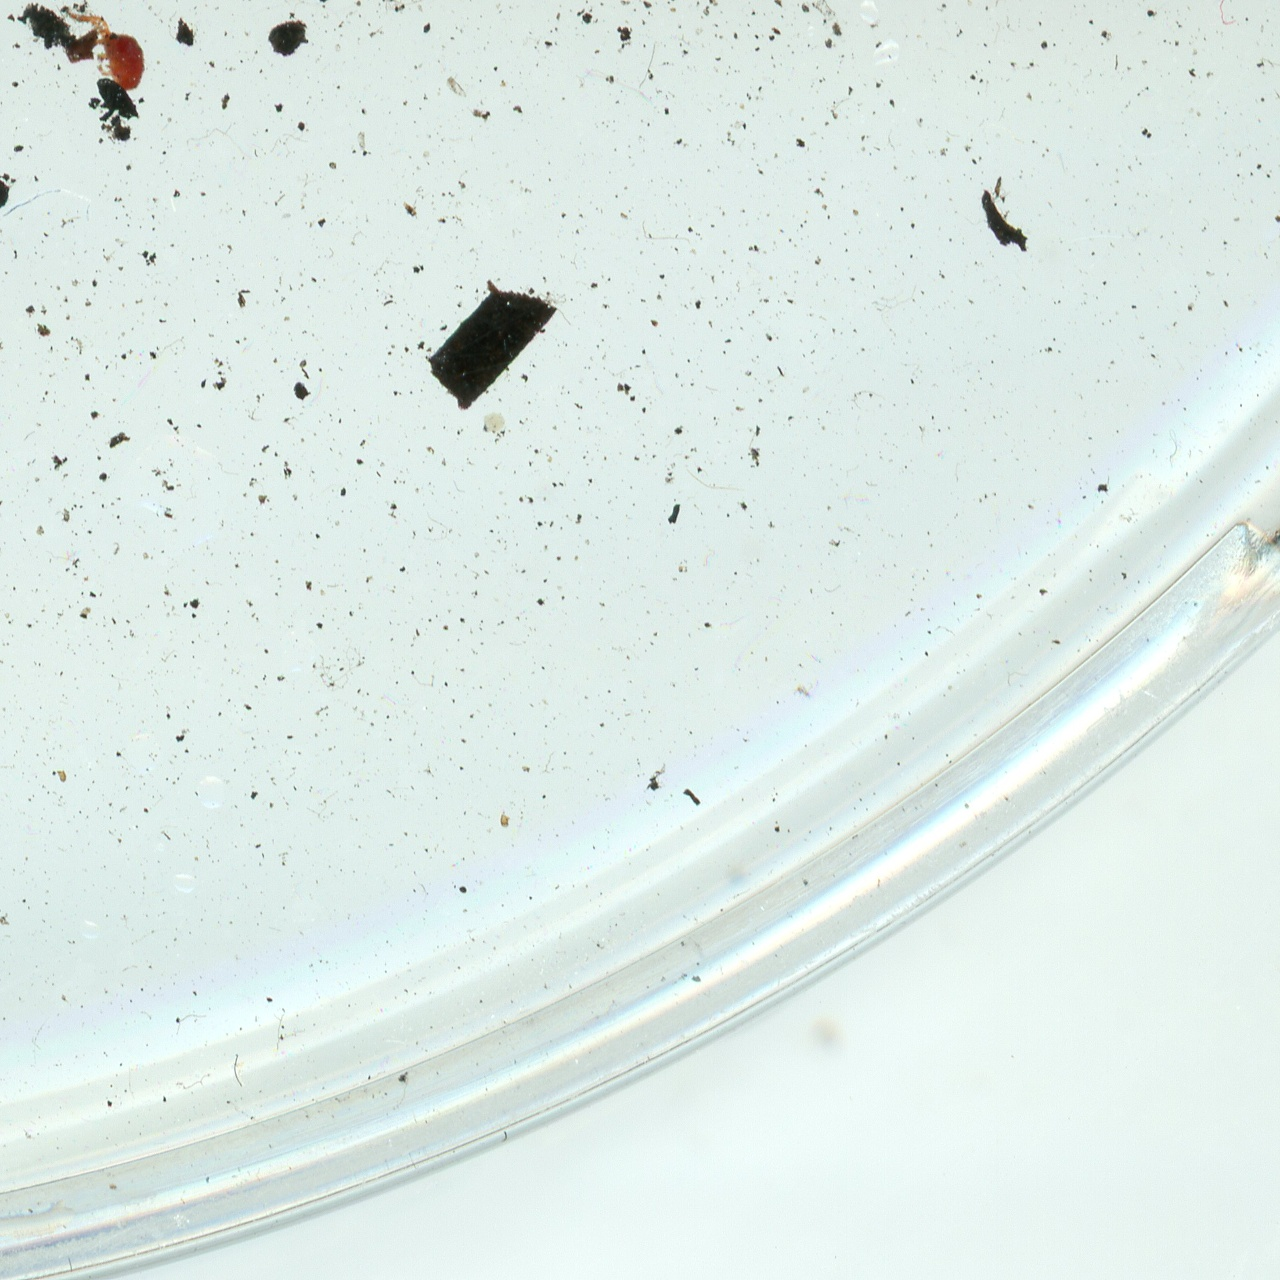arthropod: (55, 0, 166, 105)
